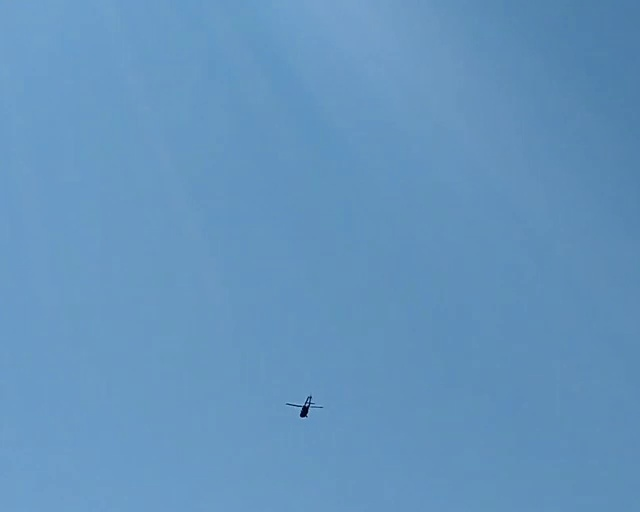HELICOPTER: (285, 394, 324, 418)
